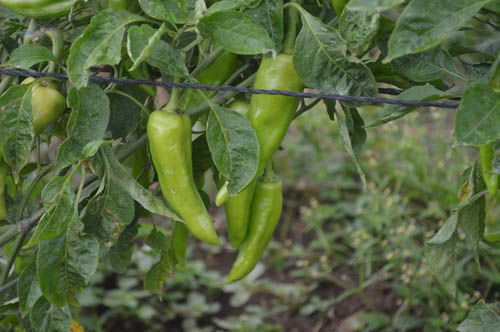ChiliPepper: (148, 111, 223, 245), (224, 181, 286, 290), (250, 55, 305, 173), (223, 102, 258, 245)
